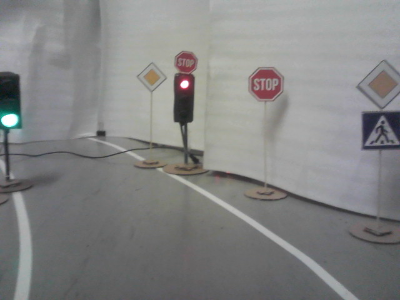crosswalk: (362, 111, 400, 149)
priority_road: (358, 64, 400, 108), (138, 63, 166, 92)
stop: (248, 68, 282, 100), (175, 51, 196, 73)
trafficlight_green: (1, 75, 22, 129)
trafficlight_red: (173, 74, 193, 121)
